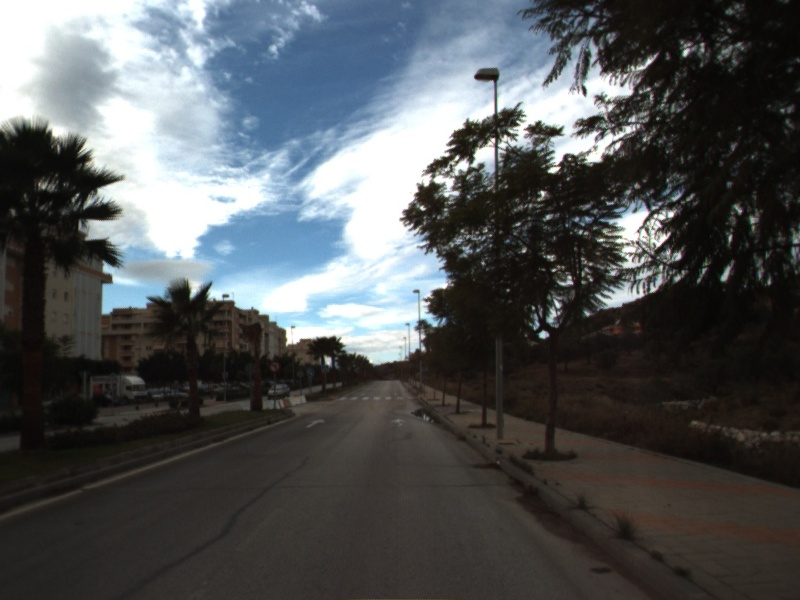STRAIGHT: (304, 416, 328, 429)
